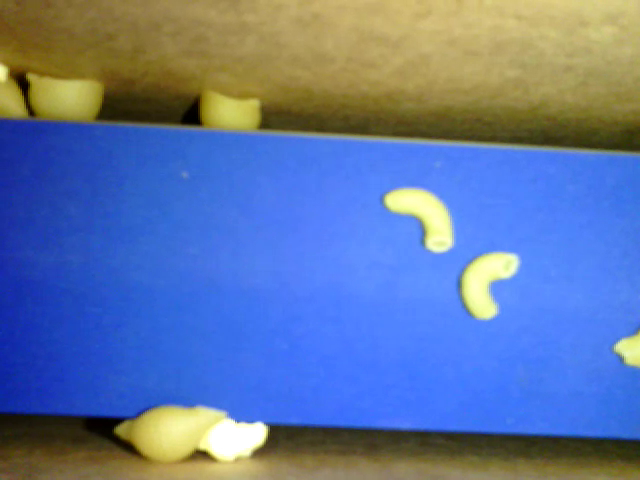elbow: (385, 188, 455, 252), (460, 251, 522, 320)
shell: (112, 404, 224, 462), (26, 71, 105, 121), (199, 86, 260, 132)
